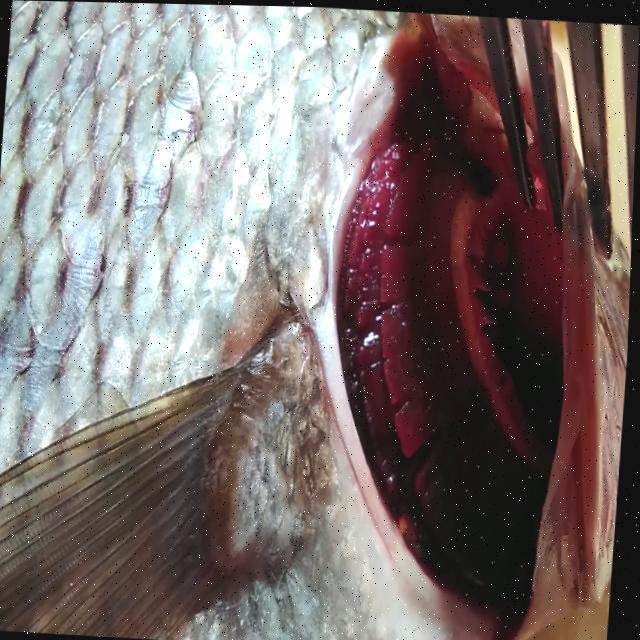Fresh: (240, 88, 602, 593)
